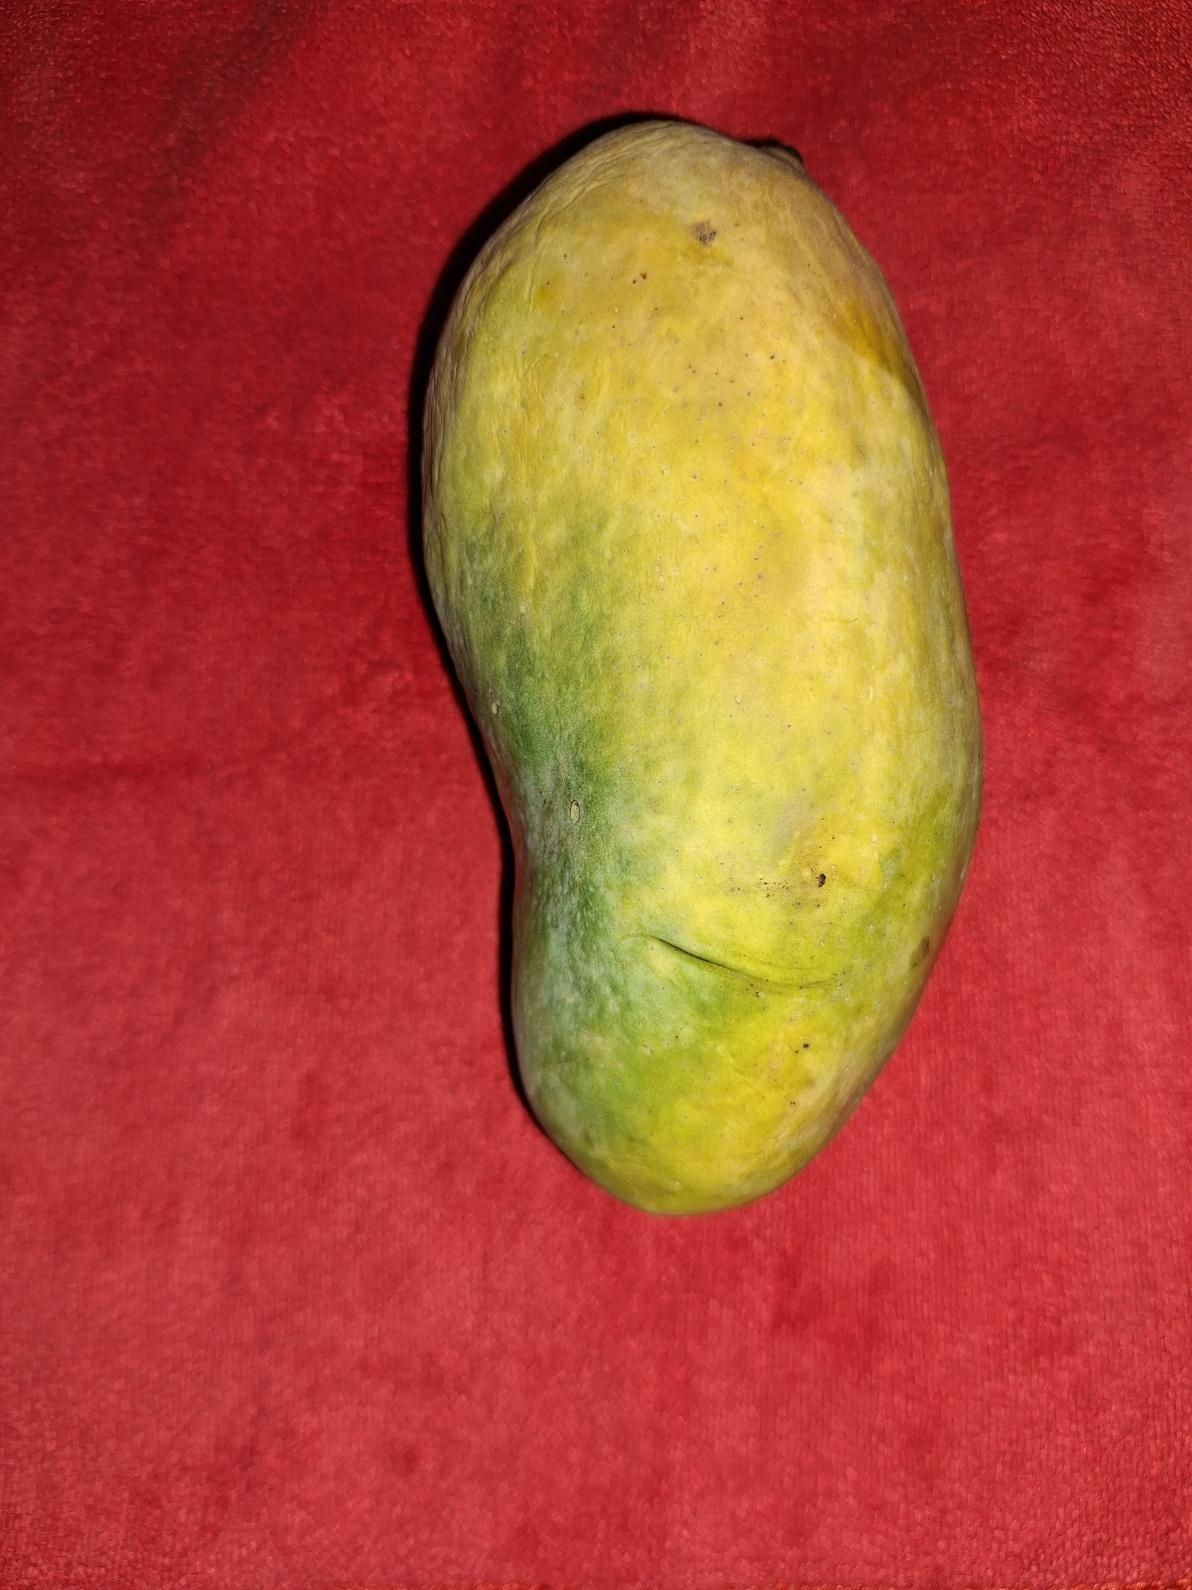mango: (417, 115, 984, 1216)
